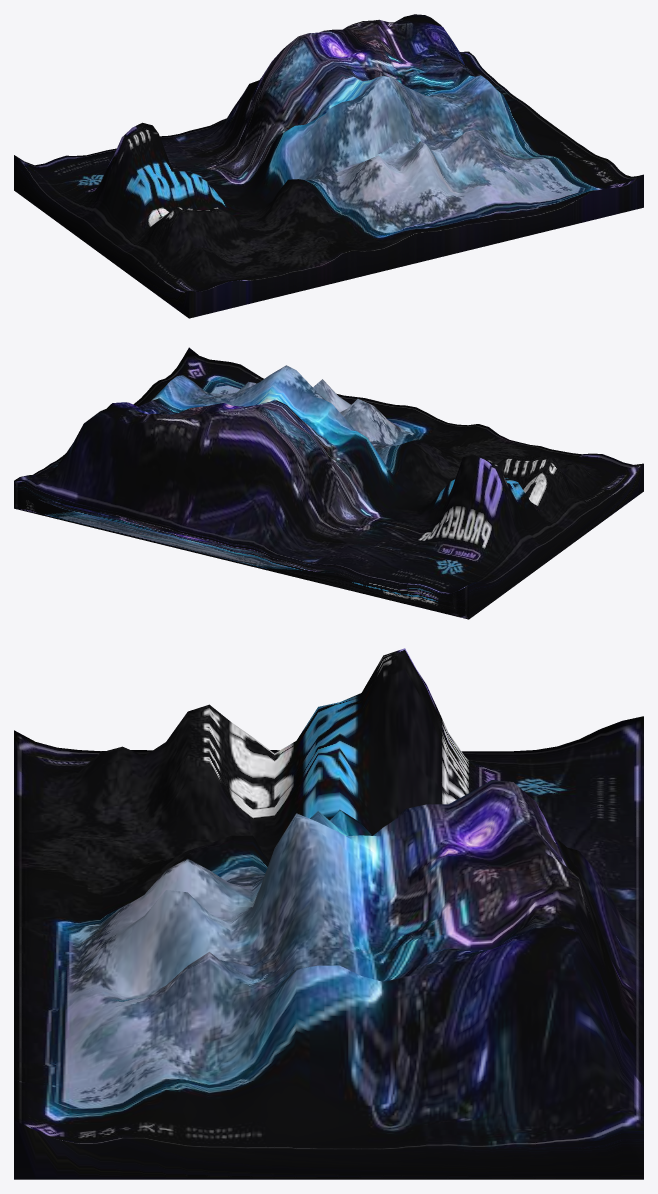
The model's file is CAREER_09_Tool_07_Projector.glb.
3 renders of one model, top to bottom at view 1: azimuth 30°, elevation 25°; view 2: azimuth 150°, elevation 25°; view 3: azimuth 270°, elevation 25°, orthographic. The views are drawn at different scales.
Visible parts, largest first — view 1: CAREER_09_Tool_07_Projector; view 2: CAREER_09_Tool_07_Projector; view 3: CAREER_09_Tool_07_Projector.
Part boxes in pixels (<box>): CAREER_09_Tool_07_Projector: <box>14,14,643,318</box>; CAREER_09_Tool_07_Projector: <box>14,347,643,619</box>; CAREER_09_Tool_07_Projector: <box>14,648,643,1179</box>.
Size of the model in its own units: 2 by 0.51 by 1.33.
Materials: 1 (1 with a texture image).
